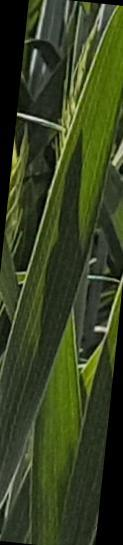Wheat: (19, 186, 101, 336), (36, 350, 94, 545), (62, 6, 123, 179)
